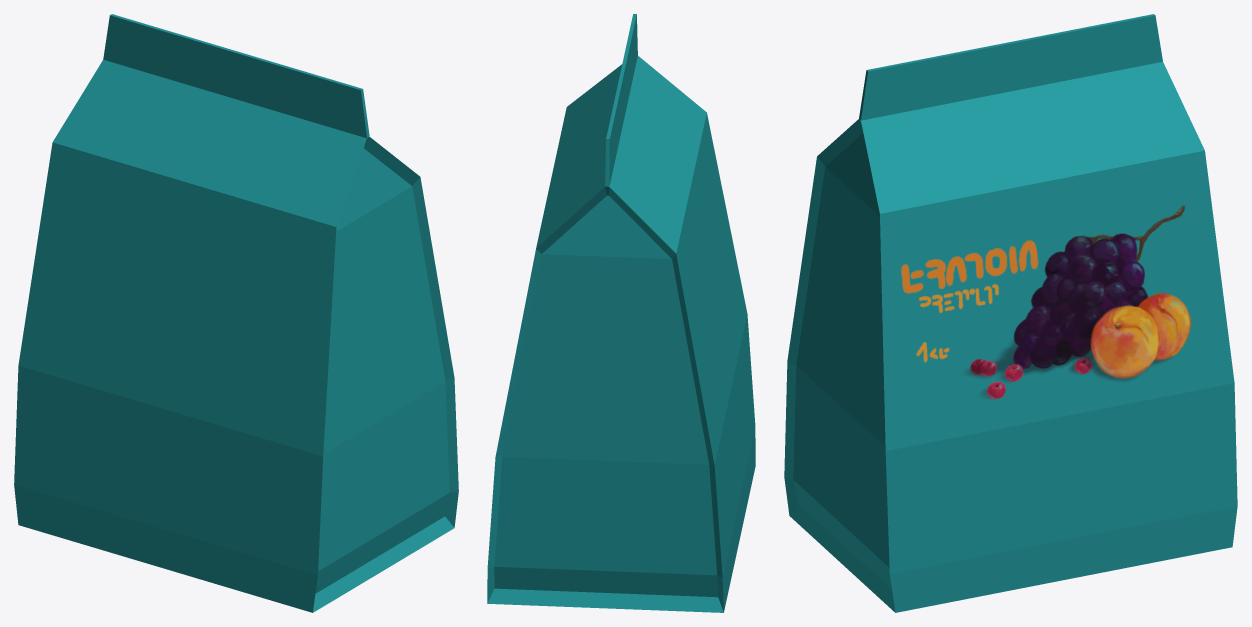
File: granola_embeded_textures.fbx
3 renders of one model, left to right at view 1: azimuth 30°, elevation 25°; view 2: azimuth 150°, elevation 25°; view 3: azimuth 270°, elevation 25°, orthographic. The views are drawn at different scales.
Visible parts, largest first — view 1: duża paka szamy.001; view 2: duża paka szamy.001; view 3: duża paka szamy.001.
Part boxes in pixels (x1,y1,x2,y2): duża paka szamy.001: [14, 14, 458, 612]; duża paka szamy.001: [487, 14, 755, 612]; duża paka szamy.001: [784, 14, 1237, 612].
Size of the model in its own units: 54.33 by 75.32 by 63.31.
2 materials, 1 textured.
